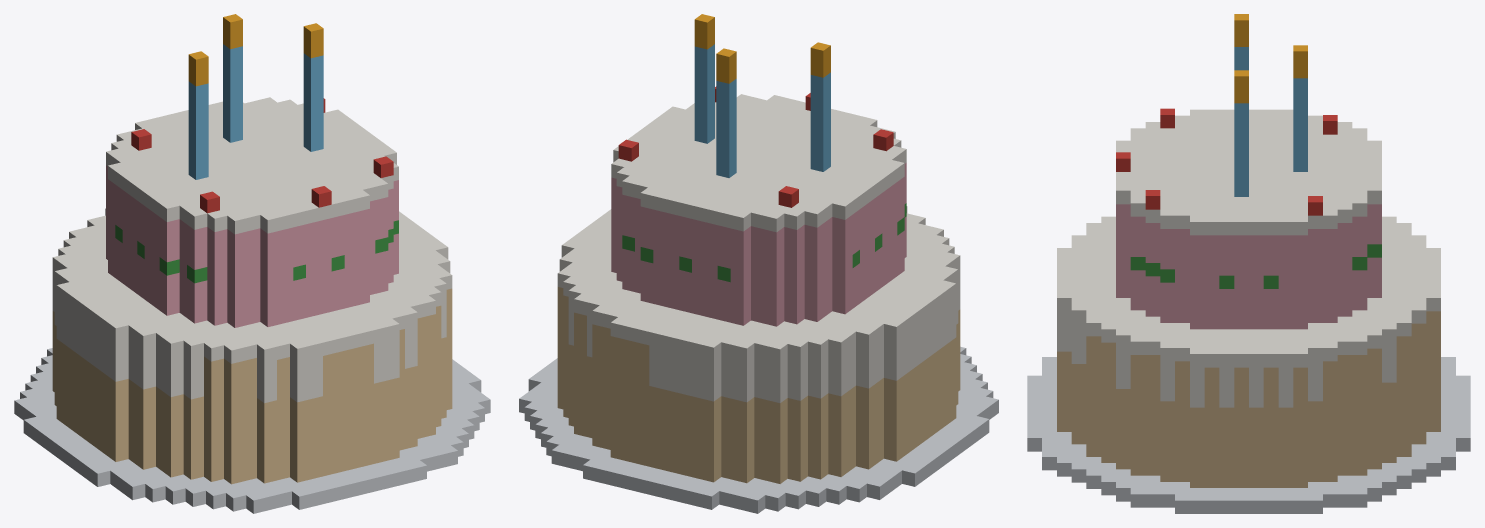
File: birthday-cake.glb
3 views of the same model, side by side, from view 1: azimuth 30°, elevation 25°; view 2: azimuth 150°, elevation 25°; view 3: azimuth 270°, elevation 25° (orthographic).
Parts seen in each view (by area): view 1: prop; view 2: prop; view 3: prop.
Boxes of the visible parts, x1,y1,x2,y2 form: prop: [14, 14, 490, 513]; prop: [519, 14, 998, 513]; prop: [1027, 14, 1470, 513].
Size of the model in its own units: 17.14 by 16 by 17.14.
